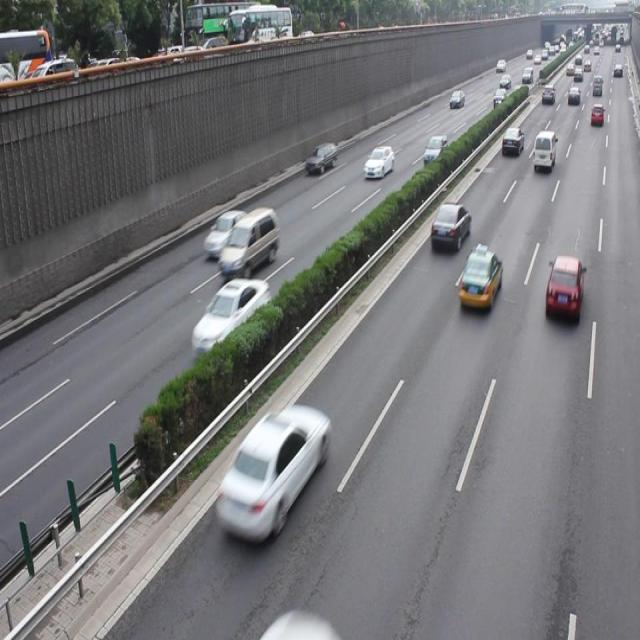car: (217, 405, 329, 542), (191, 277, 270, 354), (260, 605, 342, 640), (457, 247, 501, 310), (543, 253, 582, 319), (204, 208, 251, 258), (428, 200, 470, 250), (363, 144, 393, 180), (304, 140, 336, 173), (423, 135, 448, 166)
truck: (218, 204, 281, 277), (532, 129, 555, 171)
